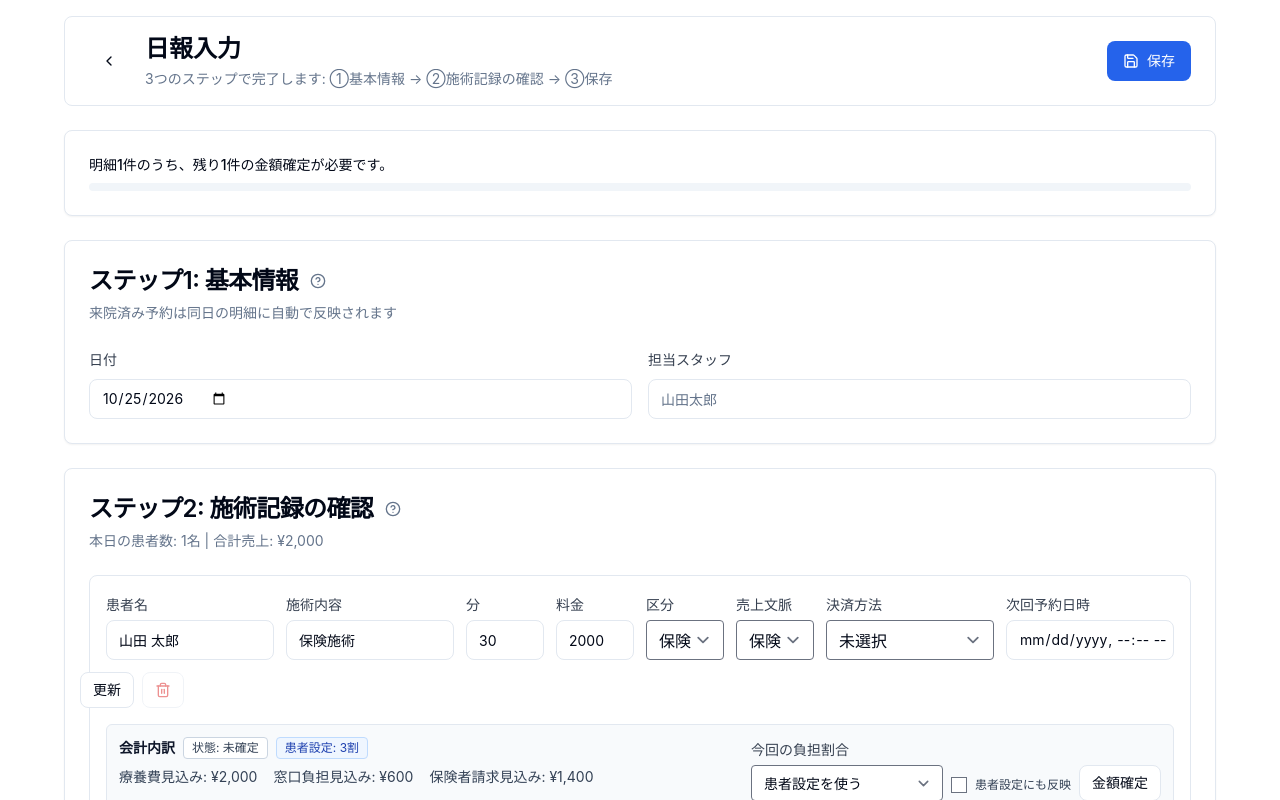
Test: DailyReportInputPage Phase 4A-5 pricing UI › keeps a failed row edit error visible across the same-target reload
Expected: the button with aria-label "山田 太郎の金額を確定" is shown, [1079, 765, 1161, 799]
Replace the text in the number field labelled "料金" with "2500" at (595, 640), box [556, 620, 634, 660]
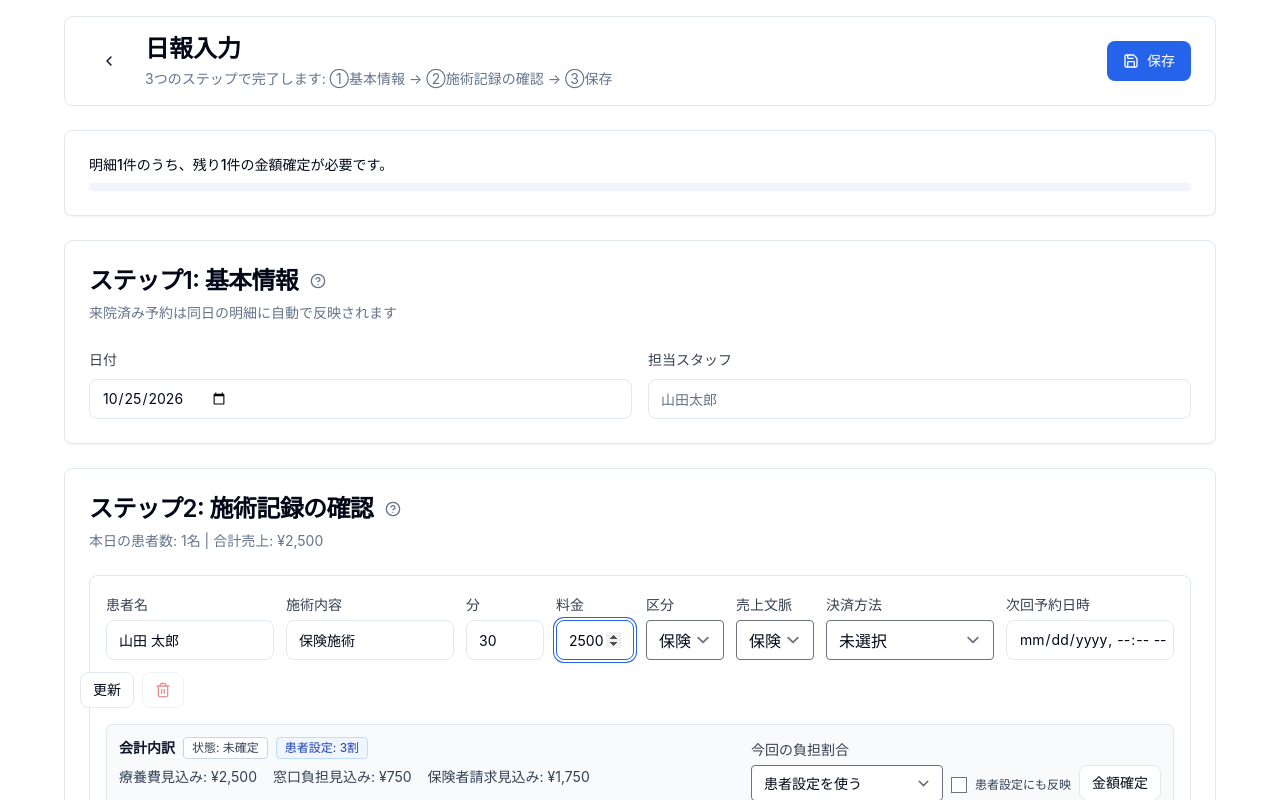
Leave the number field labelled "料金", box [556, 620, 634, 660]
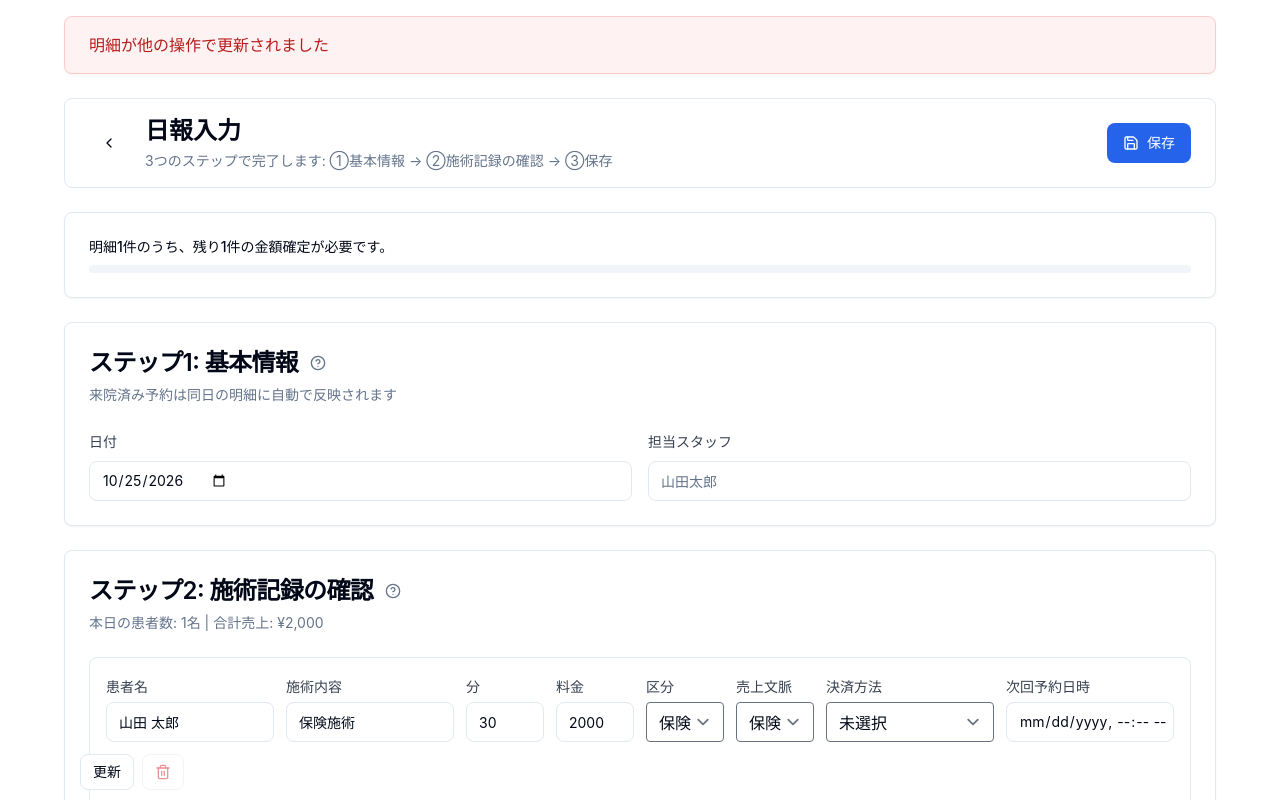
Result: the text "明細が他の操作で更新されました" is shown at [89, 35, 329, 55]
